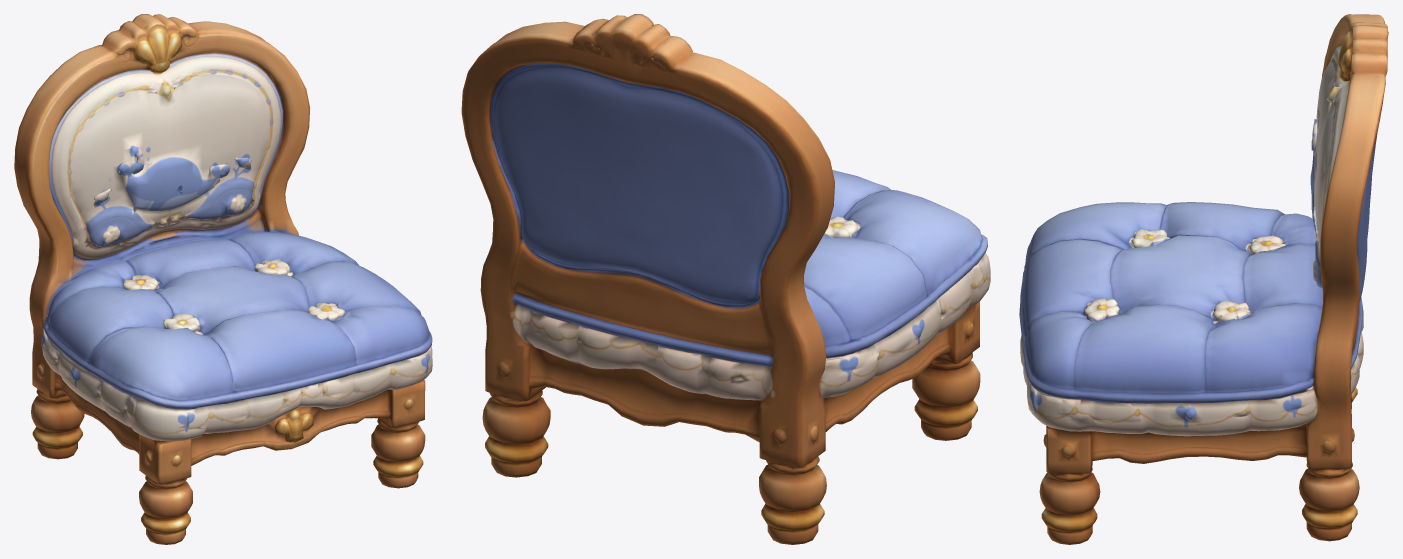
File: whale-chair-v1.glb
3 views of the same model, side by side, from view 1: azimuth 30°, elevation 25°; view 2: azimuth 150°, elevation 25°; view 3: azimuth 270°, elevation 25° (orthographic). The views are drawn at different scales.
Visible parts, largest first — view 1: whale-chair-v1; view 2: whale-chair-v1; view 3: whale-chair-v1.
Boxes of the visible parts, x1,y1,x2,y2 form: whale-chair-v1: (14,14,432,544); whale-chair-v1: (461,14,990,544); whale-chair-v1: (1019,14,1388,544).
Size of the model in its own units: 0.6 by 0.746 by 0.5591.
Materials: 1 (1 with a texture image).
